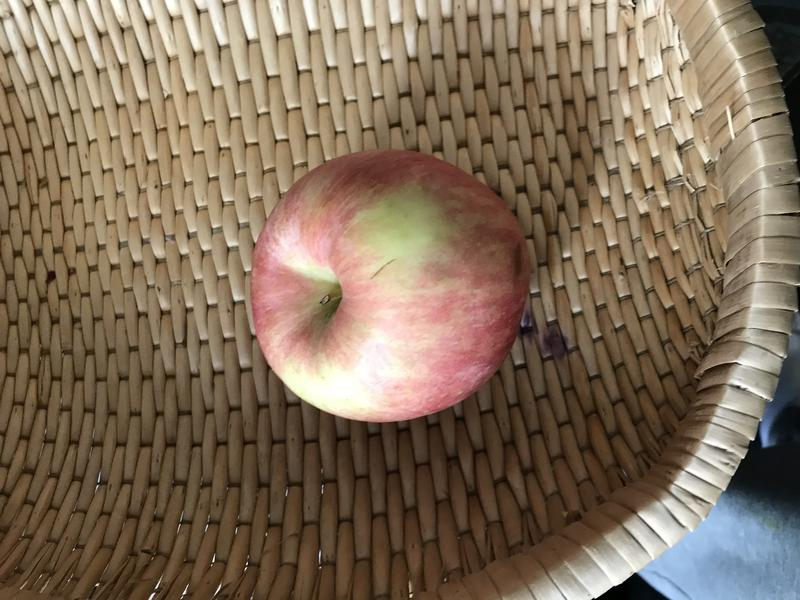red_apple: (233, 141, 543, 440)
